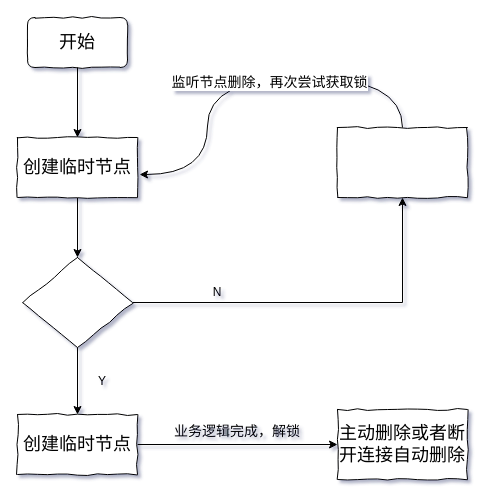
Some shapes in this 491 by 503 pixel diagram are drawn without their labels. Here are the shapes that lost their labels. From the top down, the centre of each, then its label:
At (x=402, y=162): "阻塞等待 直到获取锁".
At (x=77, y=302): "是否创建成功".
